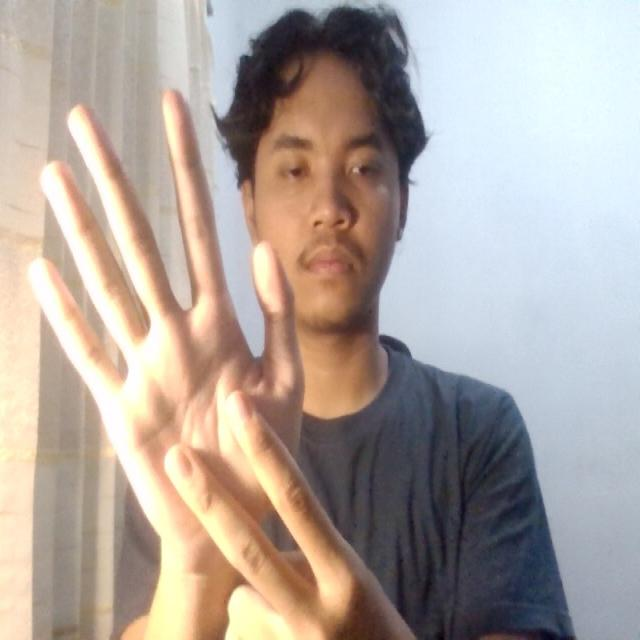IloveYou: (10, 74, 340, 610)
